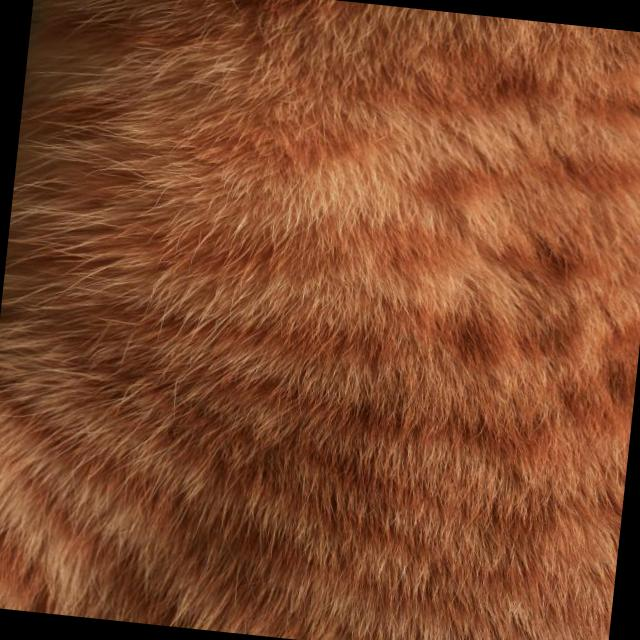Healthy skin: (178, 240, 626, 638), (47, 5, 326, 223), (383, 15, 640, 248)
